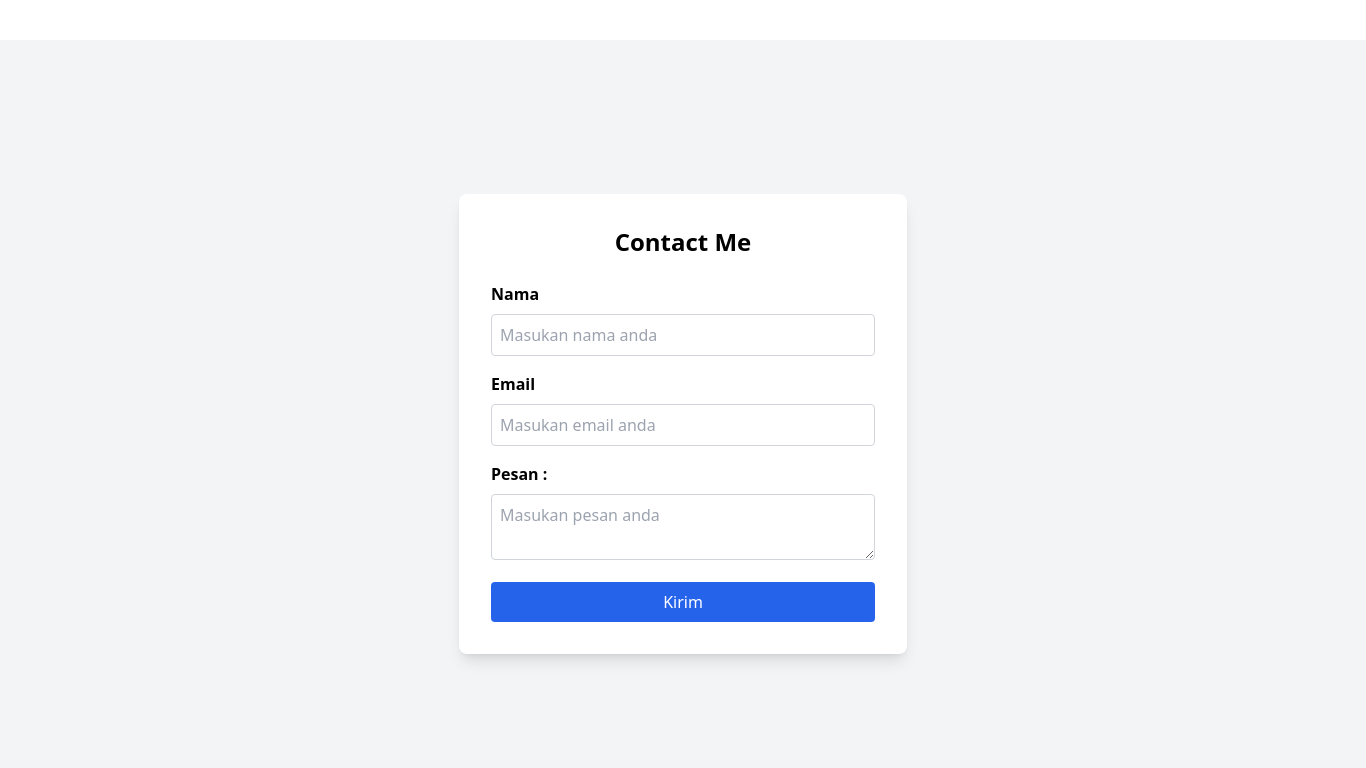
Test: ContactForm Component › validates form inputs
The width and height of the screenshot is (1366, 768).
Note: Find and submit the form
Click the button "Kirim" at coordinates (683, 602), box [491, 582, 875, 622]
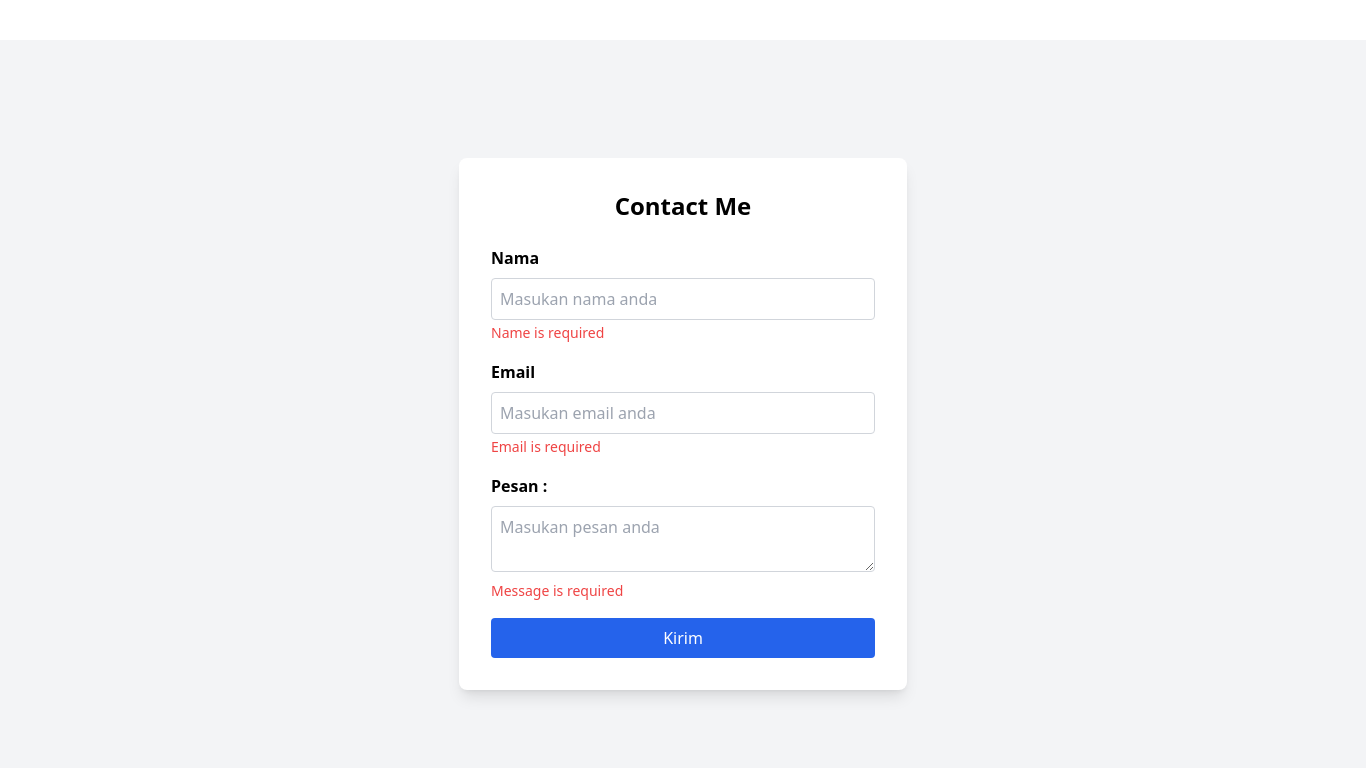
Now the text "Name is required" is shown, box [491, 323, 604, 342]
Now the text "Email is required" is shown, box [491, 437, 601, 456]
Now the text "Message is required" is shown, box [491, 581, 623, 600]
